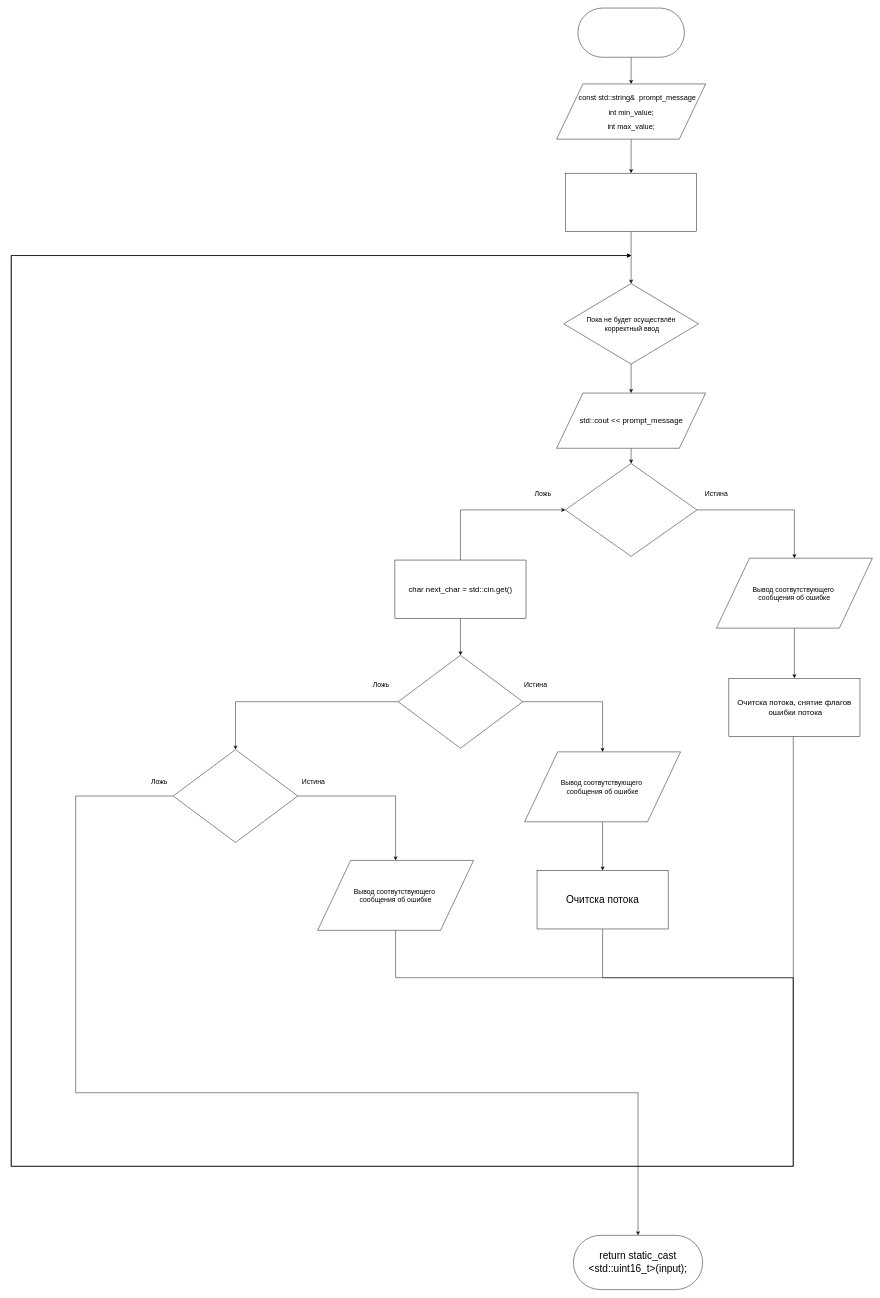
The diagram is 880 pixels wide and 1298 high, and some of its shapes have lost their labels. The box of each missing label's shape, as (x1, y1, x2, y2) in pixels:
get_validated_input: (577, 8, 684, 57)
if ( (next_char!='\n') && (next_char != ' ') ): (398, 655, 523, 748)
if (! (std::cin >> input) ): (565, 463, 697, 556)
if (input < min_value) || (input > max_value): (173, 749, 298, 842)
int input;: (565, 173, 697, 232)
